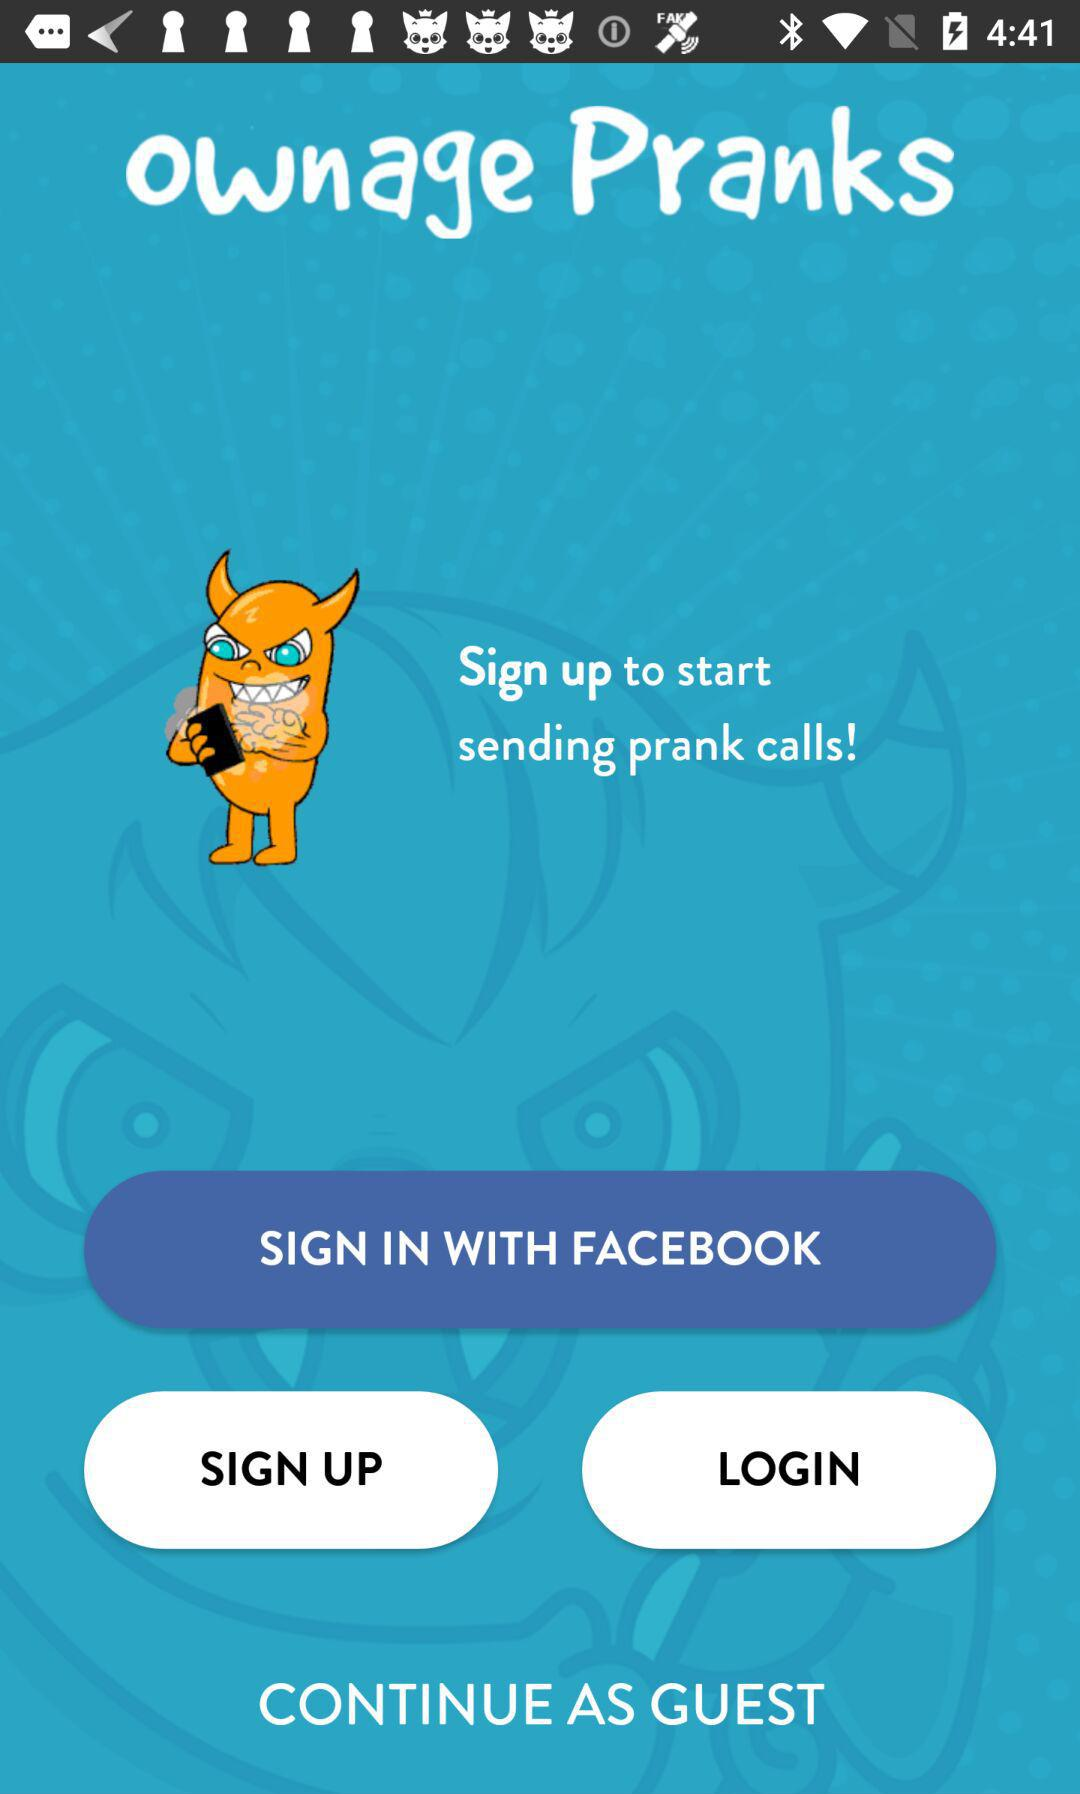BackgroundImage: (1, 64, 1080, 1794)
Image: (124, 104, 956, 243), (161, 548, 363, 869)
Text: (456, 643, 858, 780), (259, 1681, 826, 1727)
TextButton: (83, 1170, 995, 1329), (85, 1390, 500, 1551), (582, 1392, 997, 1551)
UpperTaskBar: (1, 1, 1080, 64)
